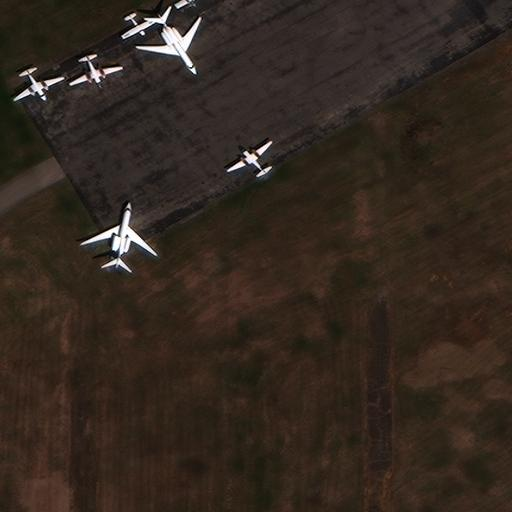Medium Civil Transport: (78, 201, 158, 269), (136, 12, 202, 74), (69, 53, 123, 87), (13, 67, 65, 101)
Small Civil Transport: (226, 139, 270, 174), (123, 13, 157, 39), (177, 0, 200, 9)
